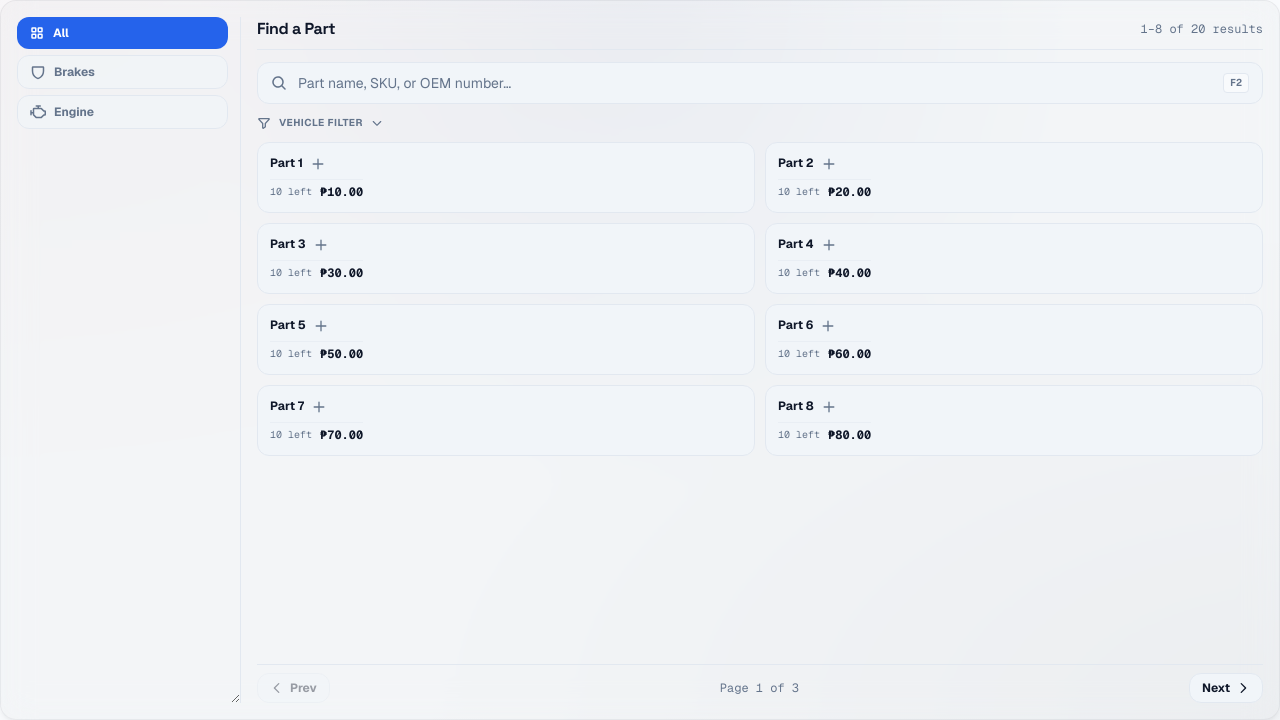
Test case: PosCatalogPanel Component Tests › navigates to page 2 when Next is clicked and updates result count text
Click the button with aria-label "next page" at (1226, 688), box [1189,673,1263,703]
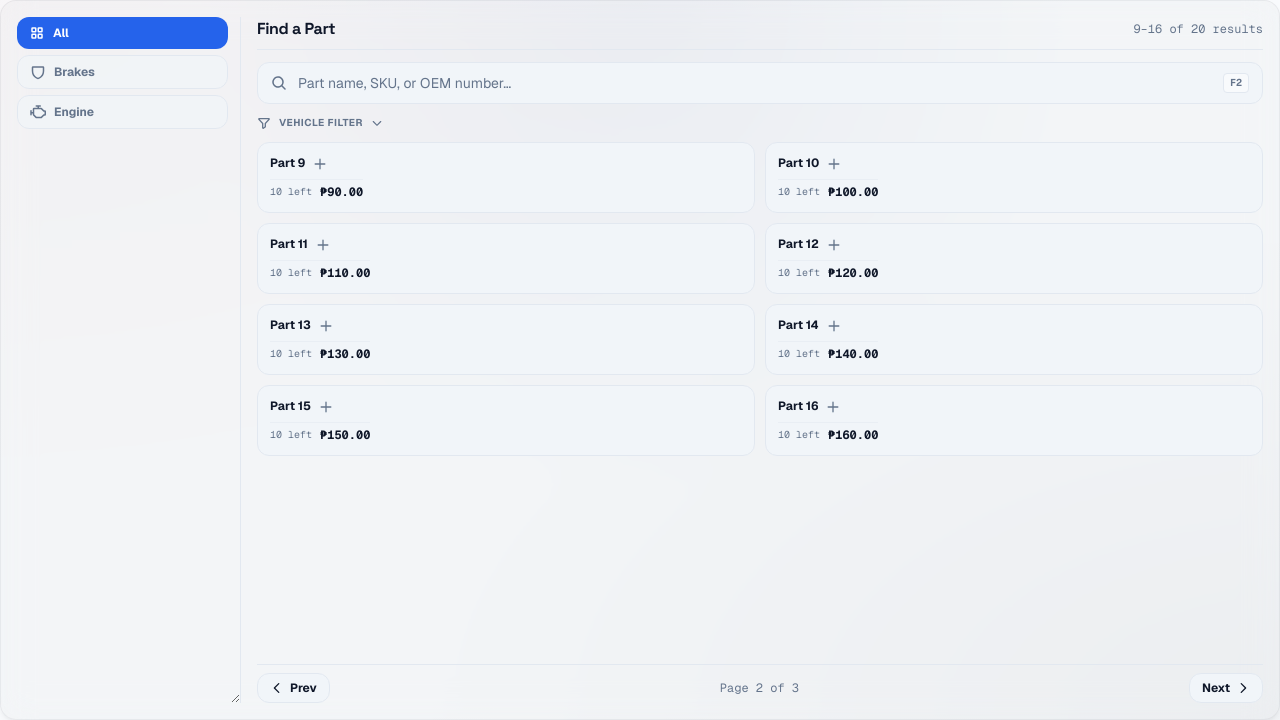
Now the text "Part 9" is shown, box [270,155,305,171]
Now the text "Part 16" is shown, box [778,398,818,414]
Now the text "9–16 of 20 results" is shown, box [1133,21,1263,37]
